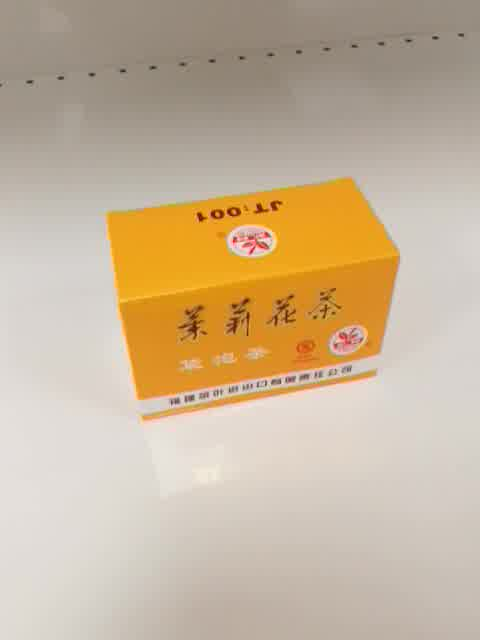jasminetea: (105, 175, 401, 422)
